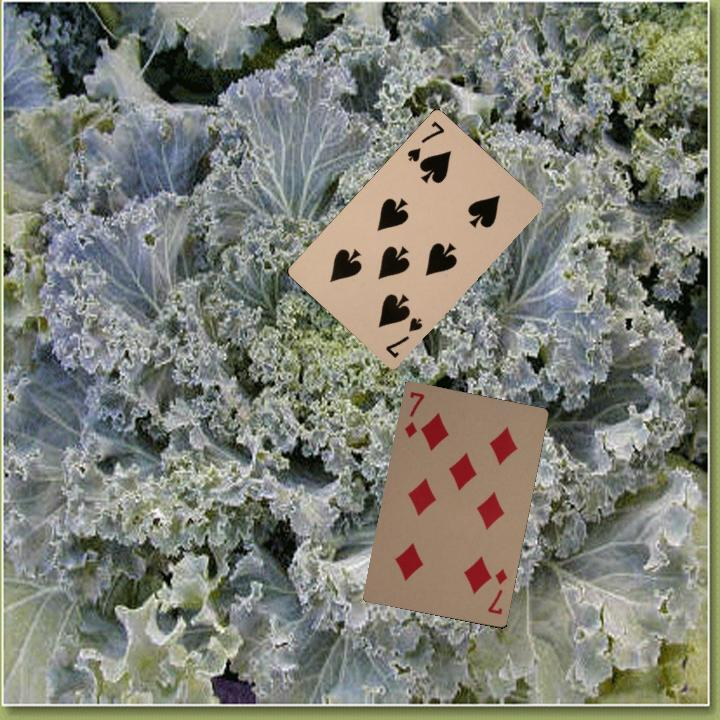7d: (400, 387, 427, 441), (484, 565, 510, 617)
7s: (403, 117, 447, 165), (381, 313, 425, 361)
